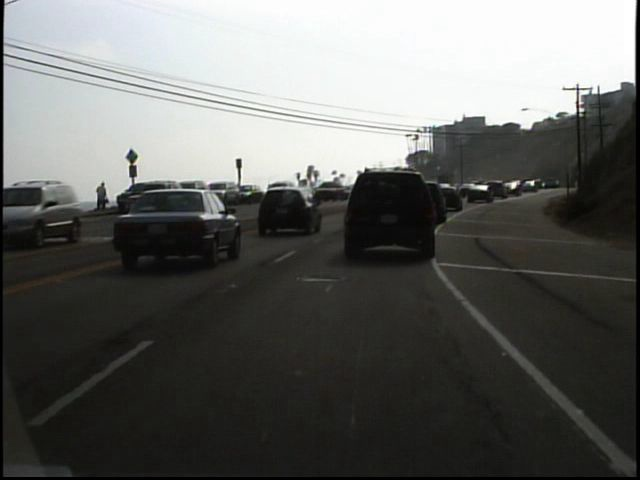person: (94, 178, 112, 217)
